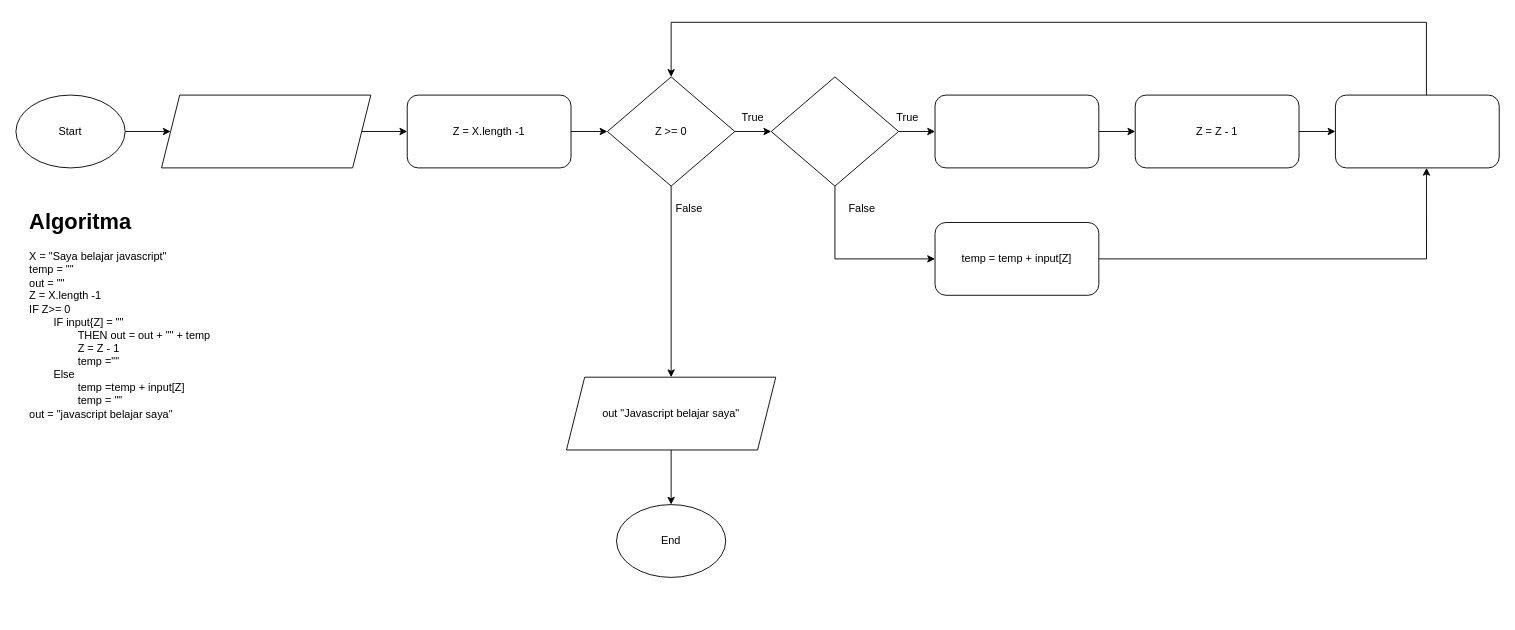
This 1515x630 diagram has some shape labels left out. The centre of each missing label's shape, as x and y in pixels:
input{Z] = "": the point at 834,131
out = out + "" + temp: the point at 1016,131
temp = "": the point at 1417,131
X = "Saya Belajar Javascript" temp = "" out = "": the point at 266,131
